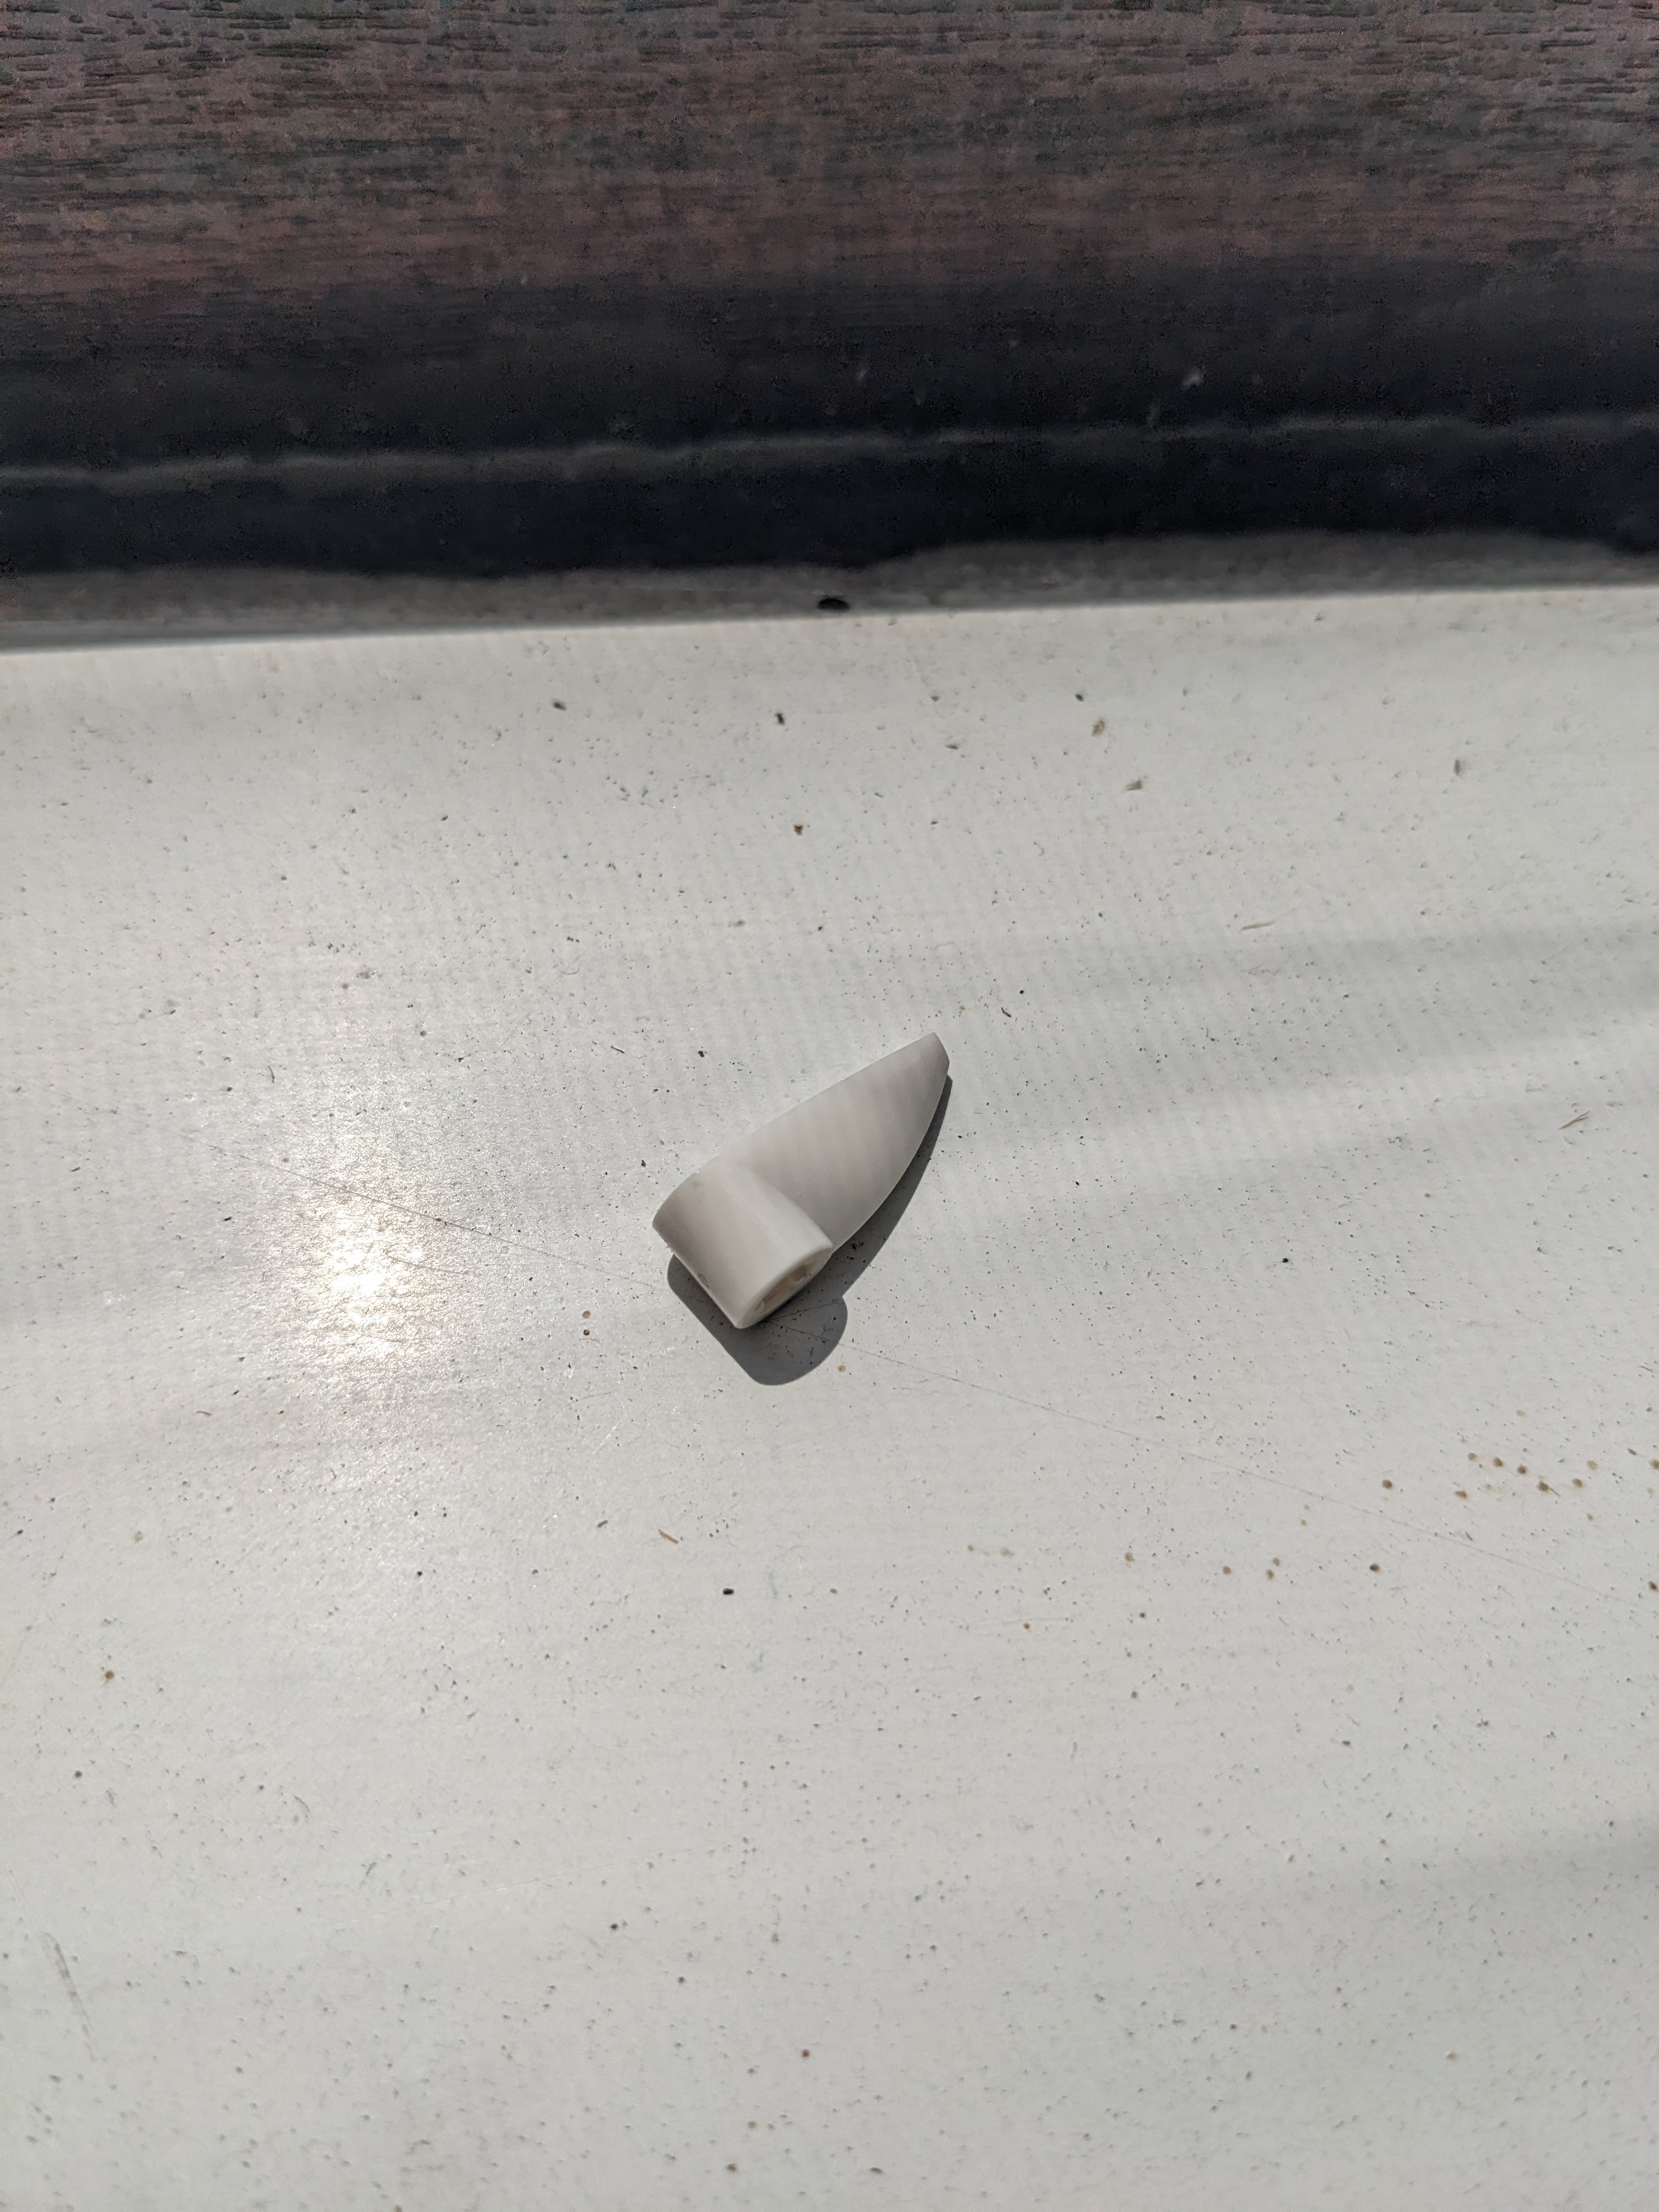Kappe: (617, 1024, 985, 1348)
